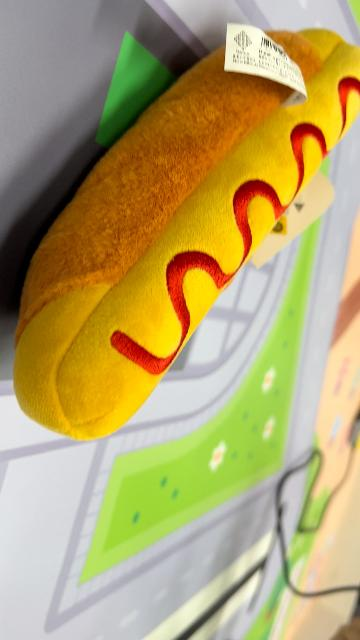hotdog: (13, 25, 360, 442)
